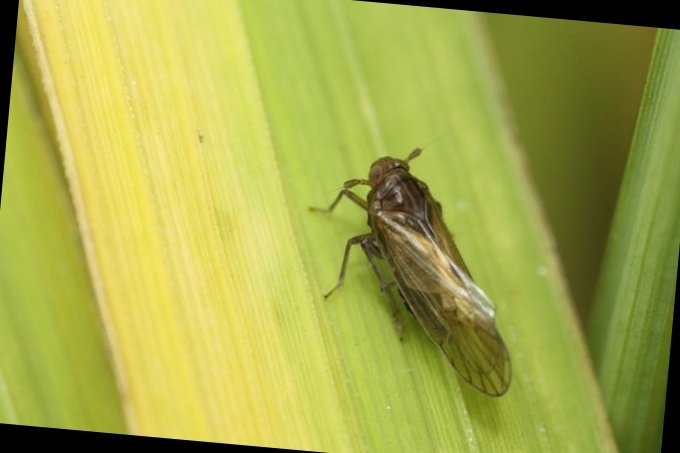Brown_hopper: (283, 138, 550, 403)
